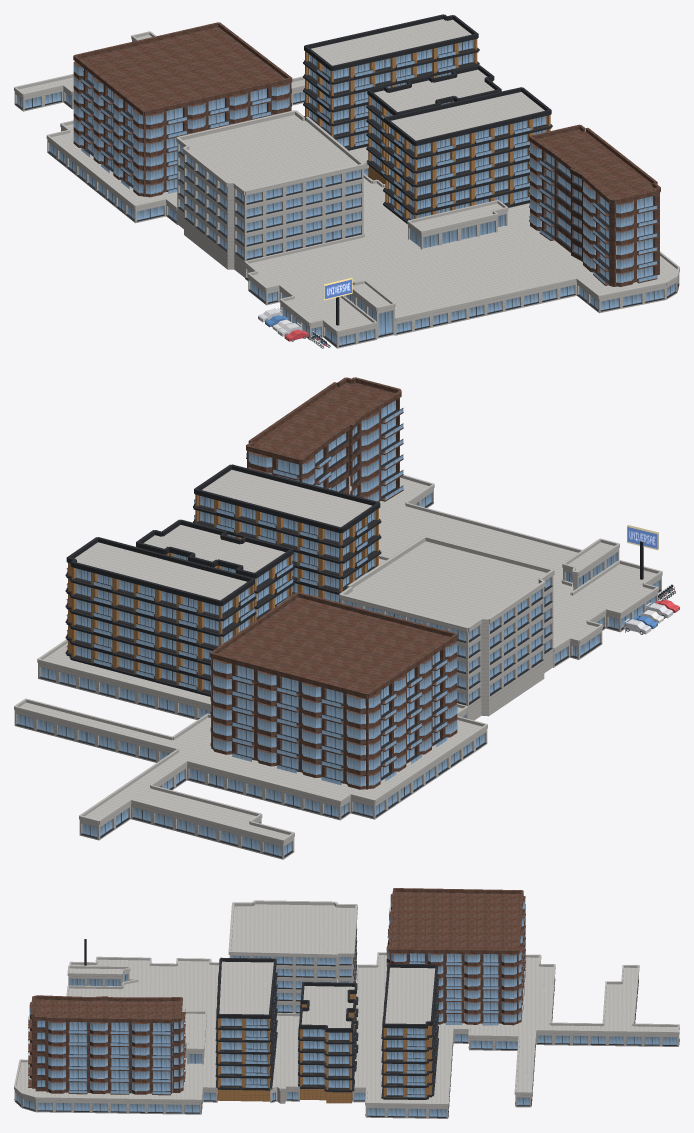
The model's file is esquina_ak15.glb.
3 views of the same model, one above another, from view 1: azimuth 30°, elevation 25°; view 2: azimuth 150°, elevation 25°; view 3: azimuth 270°, elevation 25° (orthographic). The views are drawn at different scales.
Parts seen in each view (by area): view 1: Esquina_Ak15_PBR; view 2: Esquina_Ak15_PBR; view 3: Esquina_Ak15_PBR.
Boxes of the visible parts, <box> form: Esquina_Ak15_PBR: <box>14,14,679,348</box>; Esquina_Ak15_PBR: <box>14,377,679,859</box>; Esquina_Ak15_PBR: <box>14,888,679,1118</box>.
Bounding box in the file's own units: 85.19 × 22.52 × 154.
14 materials, 8 textured.
